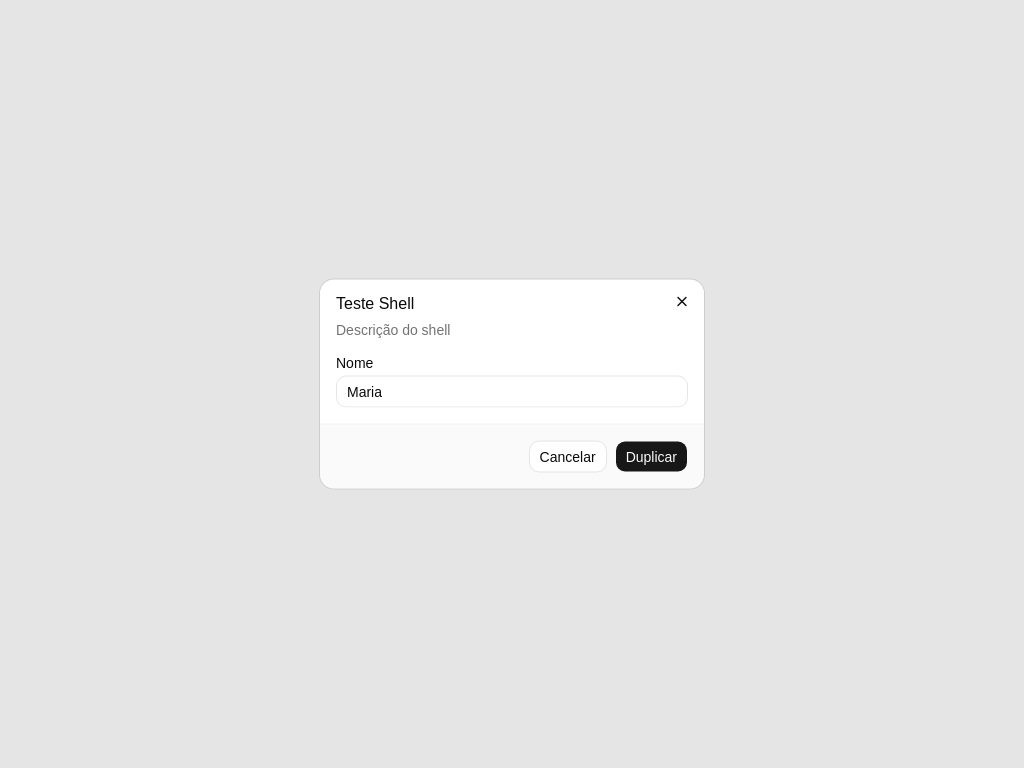
Test case: ModalFormulario (shell) › salvarLabel customizado e estado de salvando desabilita o botão
The width and height of the screenshot is (1024, 768).
Click the button "Duplicar": (651, 456) [615, 440, 688, 472]
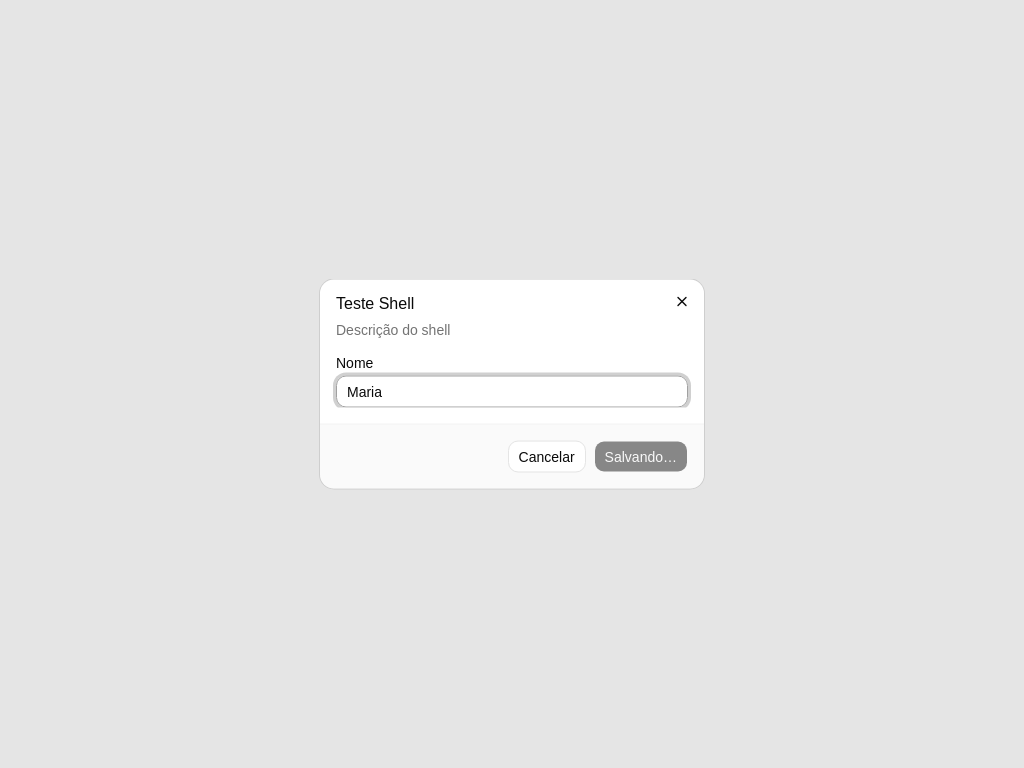
Result: the button "Salvando…" is disabled at [594, 440, 688, 472]
